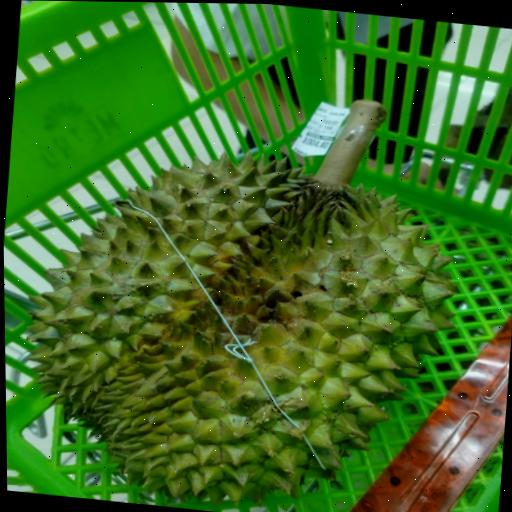rot: (0, 20, 512, 512)
